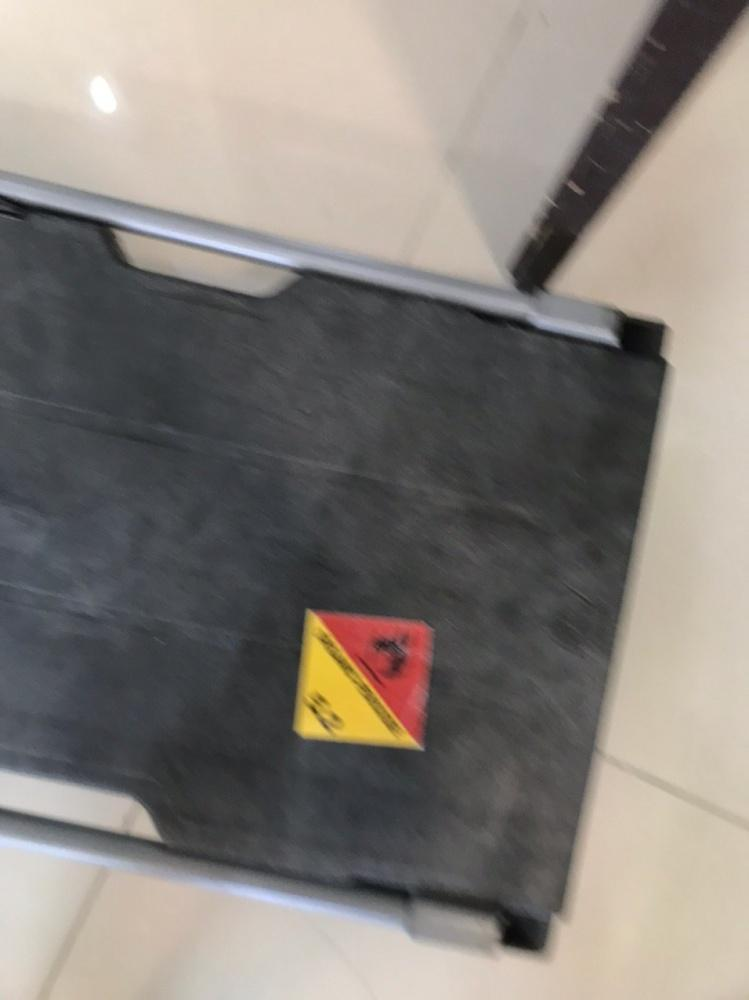organic-peroxide: (299, 609, 428, 748)
